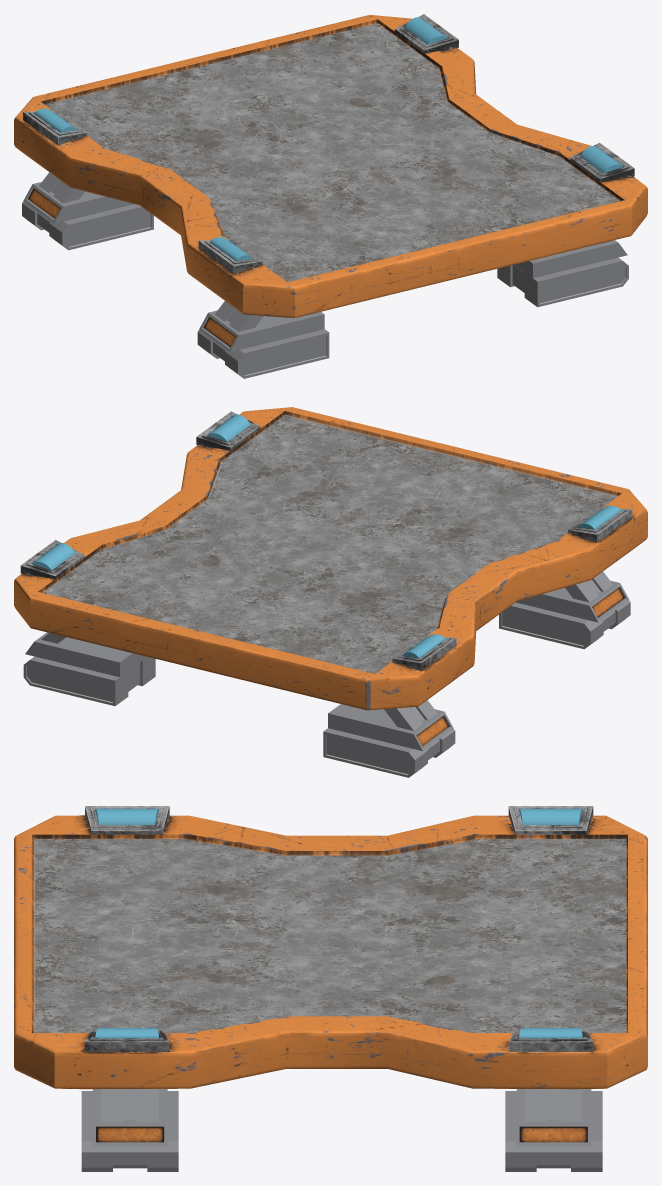
Rendered from landing_pad.fbx.
3 renders of one model, top to bottom at view 1: azimuth 30°, elevation 25°; view 2: azimuth 150°, elevation 25°; view 3: azimuth 270°, elevation 25°, orthographic. The views are drawn at different scales.
Parts seen in each view (by area): view 1: Platform, Neo_Bottom.002, Neo_Bottom.003, Neo_Bottom.001, Neo_Top.003, Neo_Top.001, Neo_Top.002, Neo_Support_Legs.003, Circuit1.002, Circuit1.003, Neo_Support_Legs.001, Circuit1 (+3 smaller); view 2: Platform, Neo_Bottom, Neo_Bottom.001, Neo_Bottom.003, Neo_Top.001, Neo_Top, Neo_Top.003, Neo_Support_Legs.001, Neo_Support_Legs.003, Circuit1.002, Circuit1.003, Circuit1 (+3 smaller); view 3: Platform, Neo_Bottom, Neo_Bottom.002, Neo_Top, Neo_Top.002, Neo_Support_Legs, Neo_Support_Legs.002, Circuit1.001, Circuit1, Light_Bulb.003, Light_Bulb.002, Circuit1.003 (+3 smaller).
Boxes of the visible parts, x1,y1,x2,y2 form: Platform: (14,15,647,317); Neo_Bottom.002: (497,257,628,307); Neo_Bottom.003: (197,329,329,378); Neo_Bottom.001: (22,201,153,250); Neo_Top.003: (199,310,324,352); Neo_Top.001: (23,182,134,223); Neo_Top.002: (514,240,627,278); Neo_Support_Legs.003: (214,301,263,331); Circuit1.002: (198,239,262,273); Circuit1.003: (23,111,87,145); Neo_Support_Legs.001: (39,172,84,203); Circuit1: (570,142,634,181); Platform: (14,407,647,710); Neo_Bottom: (23,656,155,705); Neo_Bottom.001: (323,728,455,777); Neo_Bottom.003: (499,600,630,649); Neo_Top.001: (328,704,453,751); Neo_Top: (25,632,147,677); Neo_Top.003: (516,580,629,622); Neo_Support_Legs.001: (384,700,437,730); Neo_Support_Legs.003: (565,571,612,602); Circuit1.002: (568,508,632,542); Circuit1.003: (392,637,456,671); Circuit1: (196,411,260,450); Platform: (14,815,647,1089); Neo_Bottom: (505,1091,602,1171); Neo_Bottom.002: (81,1091,178,1171); Neo_Top: (516,1089,591,1146); Neo_Top.002: (93,1089,167,1146); Neo_Support_Legs: (524,1089,582,1121); Neo_Support_Legs.002: (101,1089,158,1121); Circuit1.001: (508,1029,593,1051); Circuit1: (85,1029,169,1051); Light_Bulb.003: (519,808,582,824); Light_Bulb.002: (95,808,158,824); Circuit1.003: (508,806,593,834).
Size of the model in its own units: 1198 by 332 by 1347.
